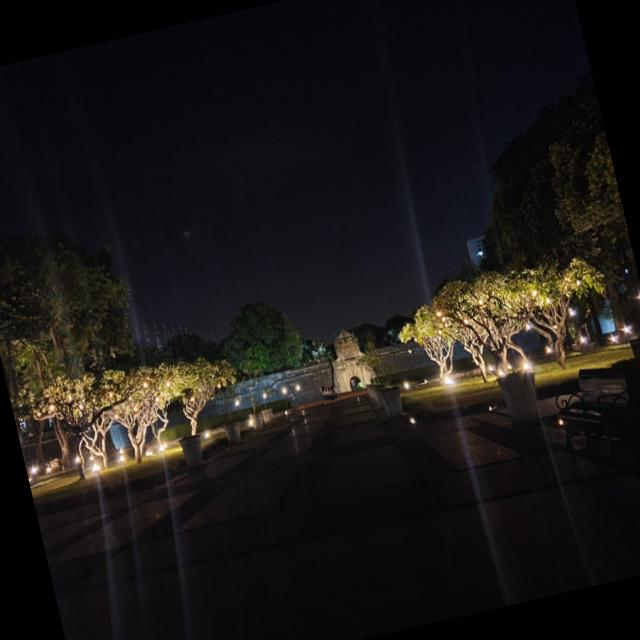Fort Santiago: (257, 327, 435, 404)
